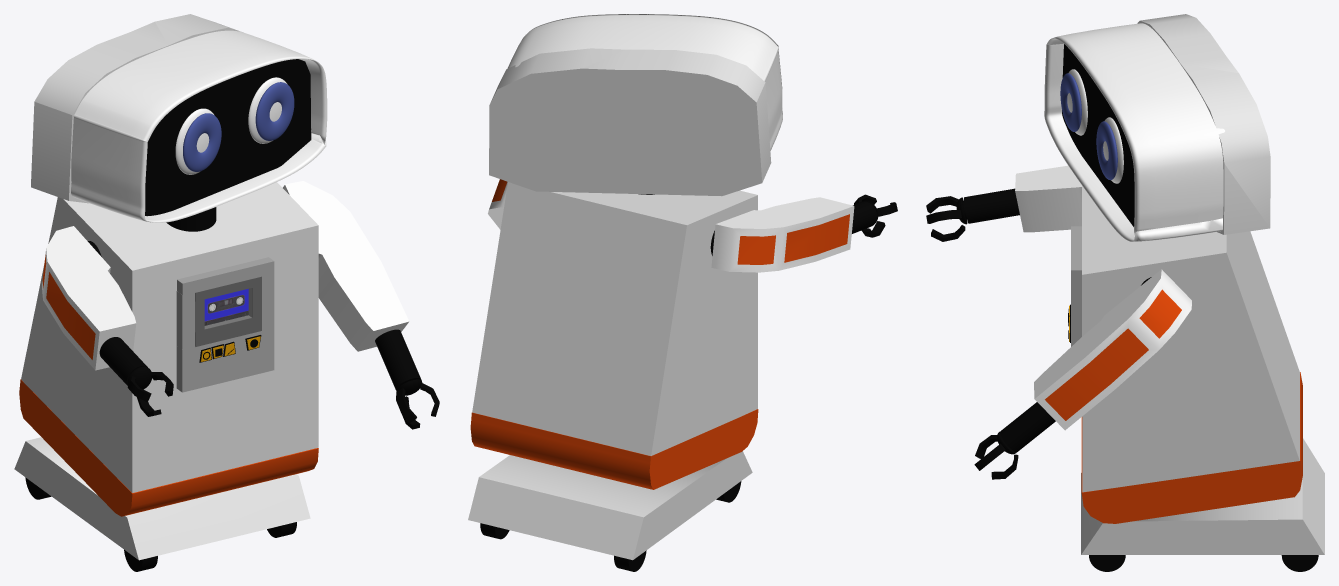
3 renders of one model, left to right at view 1: azimuth 30°, elevation 25°; view 2: azimuth 150°, elevation 25°; view 3: azimuth 270°, elevation 25°, orthographic. The views are drawn at different scales.
Parts seen in each view (by area): view 1: mesh_id218, mesh_id315, mesh_id323, mesh_id276, mesh_id220, mesh_id137, mesh_id28, OIP (2), mesh_id287, mesh_id181; view 2: mesh_id218, mesh_id315, mesh_id323, mesh_id220, mesh_id276; view 3: mesh_id218, mesh_id315, mesh_id276, mesh_id323, mesh_id220, mesh_id137, mesh_id348, mesh_id337.
Boxes of the visible parts, x1,y1,x2,y2 form: mesh_id218: [19, 182, 318, 516]; mesh_id315: [31, 14, 327, 222]; mesh_id323: [14, 437, 310, 560]; mesh_id276: [283, 181, 439, 429]; mesh_id220: [42, 226, 173, 416]; mesh_id137: [176, 257, 274, 392]; mesh_id28: [205, 288, 251, 328]; OIP (2): [204, 288, 248, 325]; mesh_id287: [166, 207, 216, 231]; mesh_id181: [199, 335, 261, 362]; mesh_id218: [470, 182, 758, 489]; mesh_id315: [489, 14, 782, 196]; mesh_id323: [468, 451, 752, 560]; mesh_id220: [711, 194, 897, 272]; mesh_id276: [488, 179, 507, 229]; mesh_id218: [1081, 186, 1302, 523]; mesh_id315: [1044, 14, 1270, 241]; mesh_id276: [974, 269, 1191, 479]; mesh_id323: [1081, 438, 1324, 554]; mesh_id220: [926, 165, 1082, 241]; mesh_id137: [1071, 226, 1081, 346]; mesh_id348: [1281, 555, 1318, 571]; mesh_id337: [1089, 555, 1125, 571].
Bounding box in the file's own units: 4.44 × 6.22 × 4.76.
Materials: 32 (2 with a texture image).
